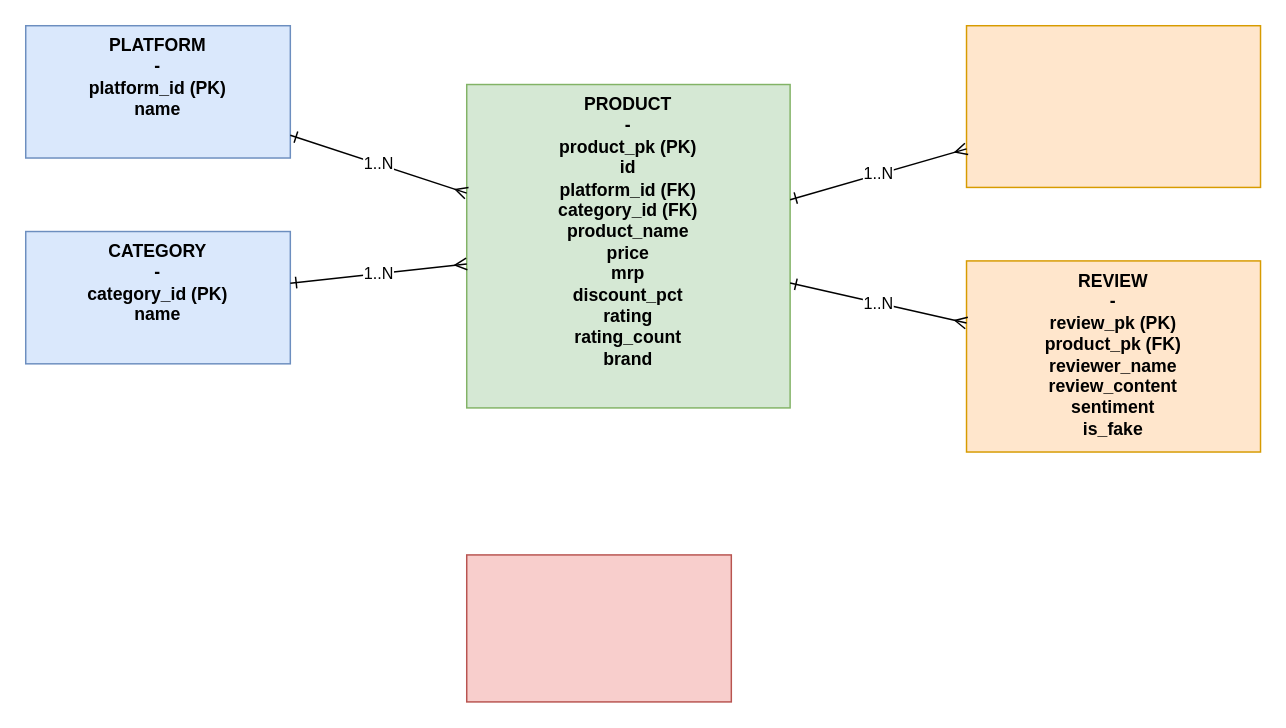
This 1286x728 diagram has some shape labels left out. Here are the shapes that lost their labels. From the top down, the centre of each, then its label:
the point at 1113,105: SALES - sale_id (PK) product_pk (FK) order_date quantity revenue
the point at 598,627: USER - user_id (PK) username password role
